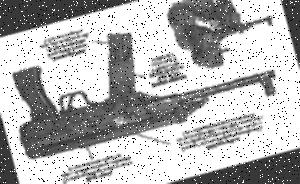SMG: (10, 32, 279, 161), (177, 0, 275, 49)
